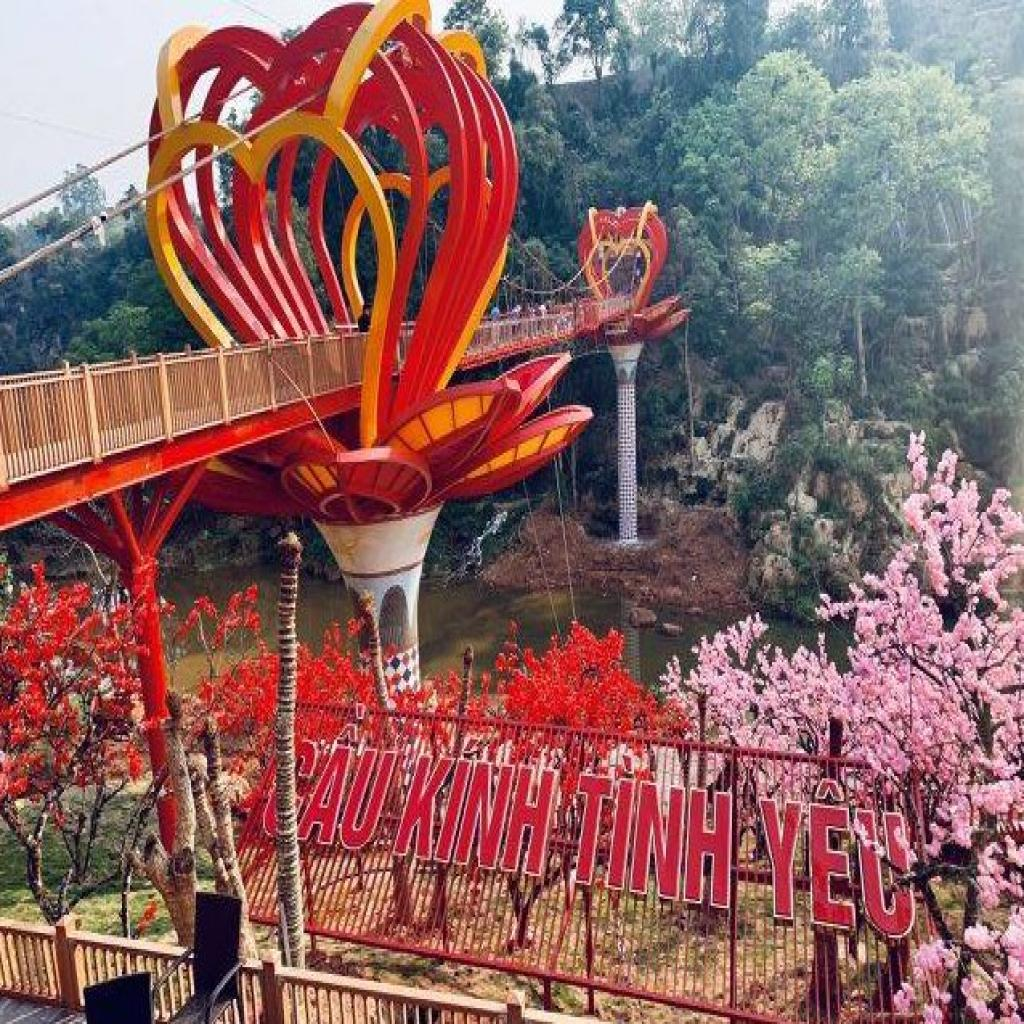text: (385, 722, 567, 894), (564, 749, 742, 917), (292, 696, 417, 865)
